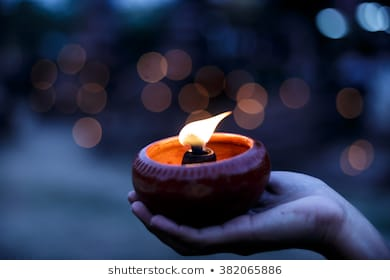Fire: (175, 109, 233, 147)
